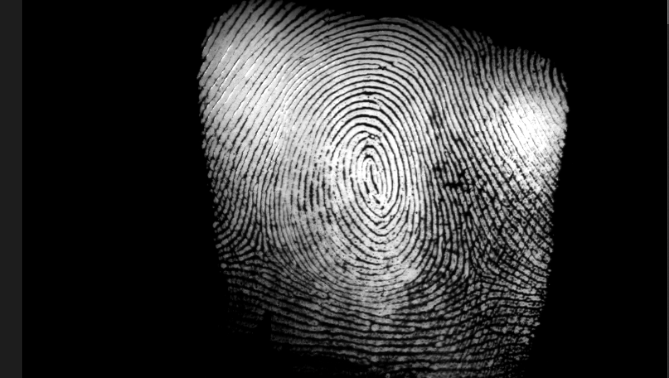nucelo: (353, 143, 390, 209)
verticilo: (240, 234, 275, 264), (457, 254, 487, 284)
